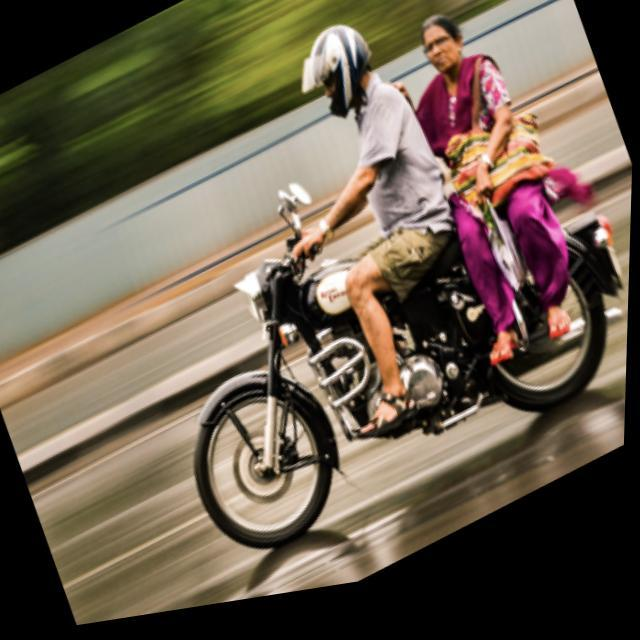Helmet: (289, 20, 379, 122)
Nonhelmet: (413, 10, 471, 82)
